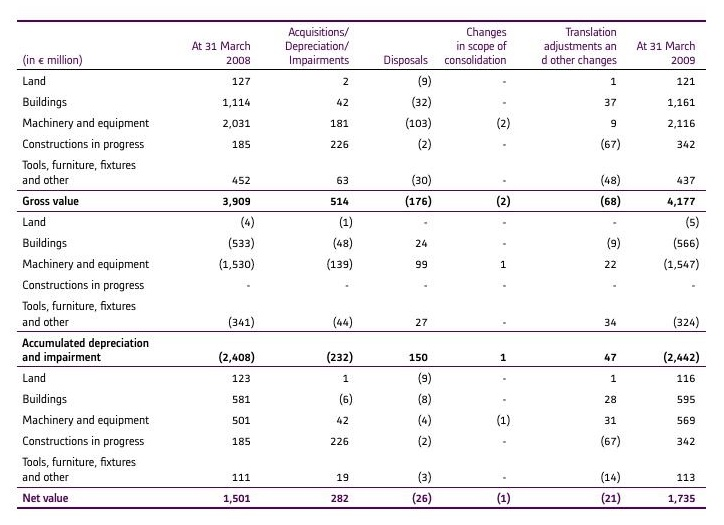table: (0, 0, 724, 525)
